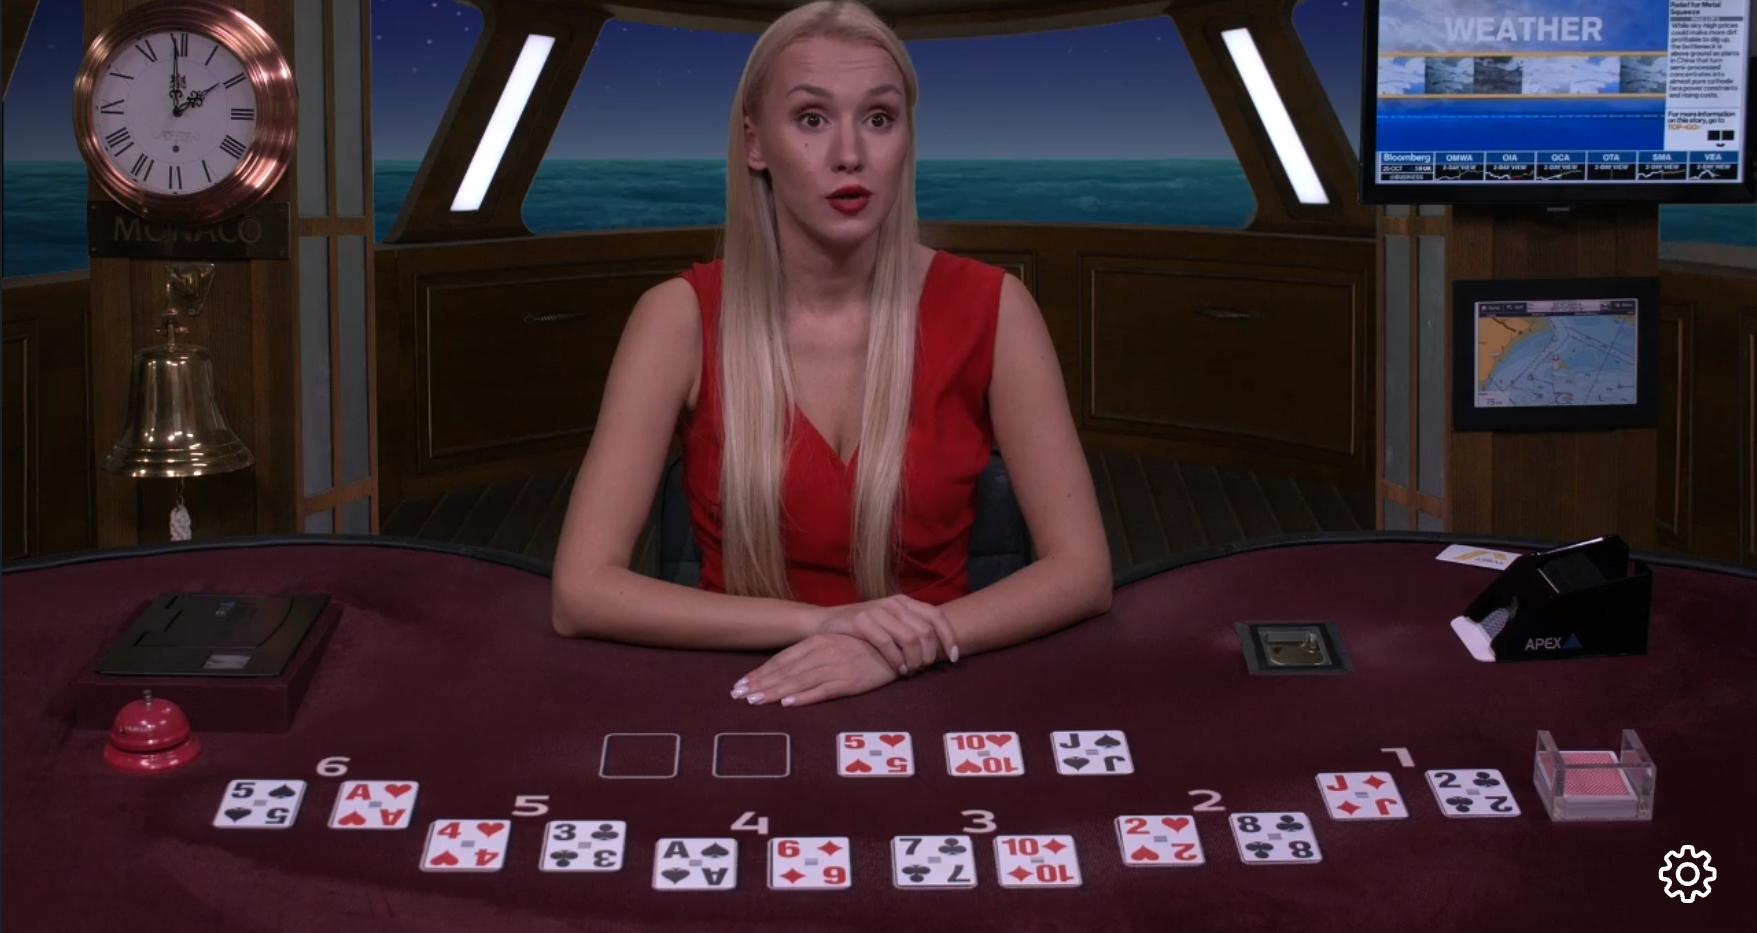10d: (989, 831, 1085, 889)
10h: (942, 727, 1031, 783)
2c: (1427, 763, 1528, 823)
2h: (1113, 808, 1210, 869)
3c: (540, 812, 630, 876)
4h: (415, 813, 519, 876)
5h: (834, 727, 920, 781)
5s: (211, 768, 306, 828)
6d: (767, 834, 859, 897)
7c: (889, 830, 978, 893)
8c: (1226, 809, 1325, 864)
ash: (327, 775, 421, 837)
ass: (652, 835, 736, 892)
jd: (1315, 767, 1414, 825)
js: (1044, 724, 1142, 782)
